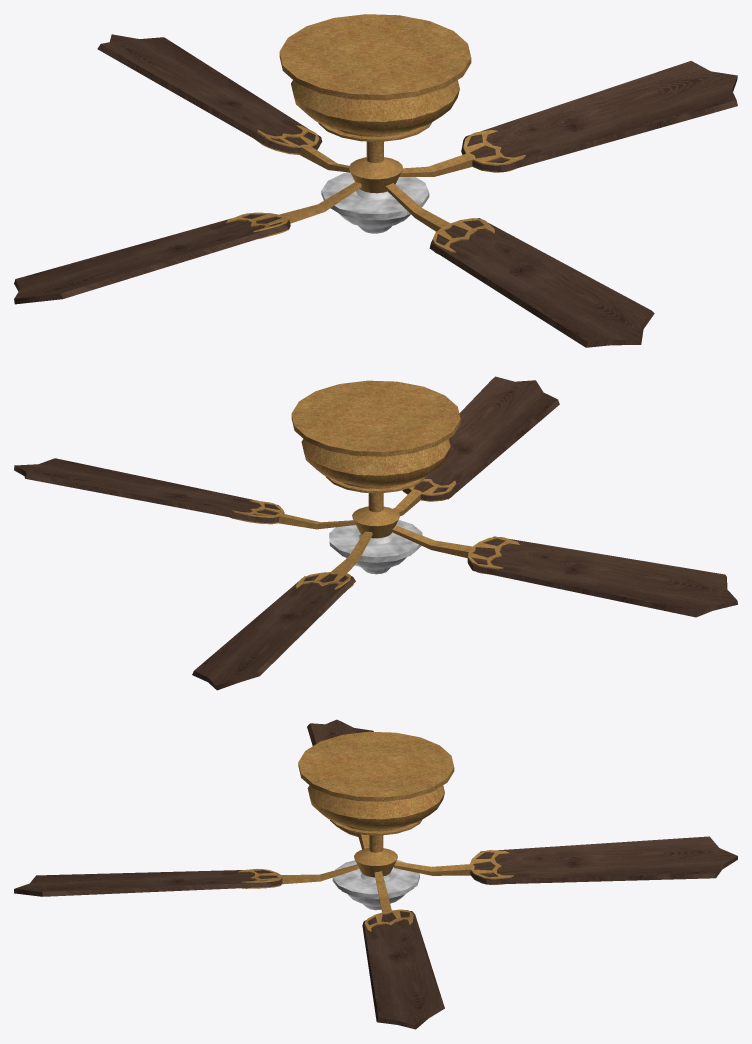
Rendered from Fan.FBX.
The picture shows the model from 3 angles, top to bottom: view 1: azimuth 30°, elevation 25°; view 2: azimuth 150°, elevation 25°; view 3: azimuth 270°, elevation 25°; orthographic projection. The views are drawn at different scales.
Parts seen in each view (by area): view 1: Fan, Bulb-Fan; view 2: Fan, Bulb-Fan; view 3: Fan, Bulb-Fan.
Boxes of the visible parts, x1,y1,x2,y2 form: Fan: (14,34,737,347); Bulb-Fan: (279,14,471,233); Fan: (14,376,737,690); Bulb-Fan: (291,380,460,574); Fan: (14,719,737,1029); Bulb-Fan: (298,731,454,910).
Bounding box in the file's own units: 53.14 × 11.73 × 53.14.
Materials: 3 (3 with a texture image).
